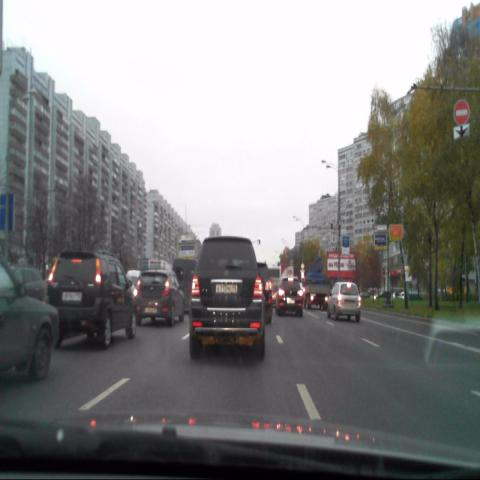3_1: (453, 99, 469, 125)
